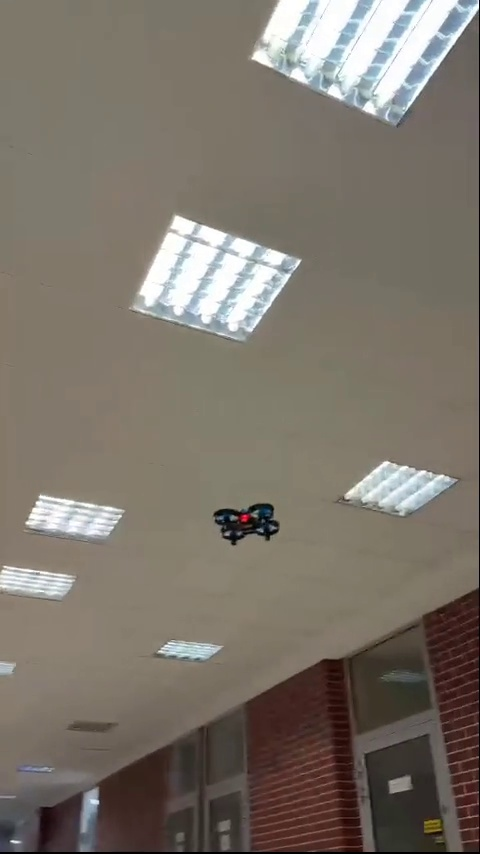drone: (215, 505, 280, 545)
